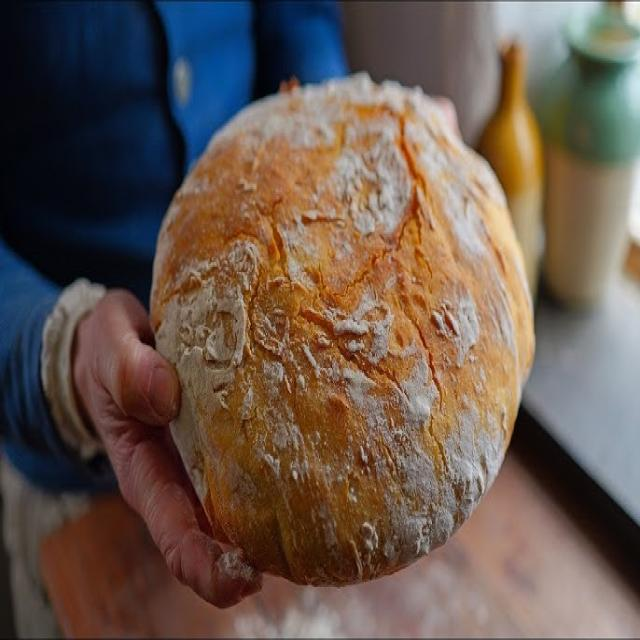Maltese-Bread: (151, 75, 534, 580)
